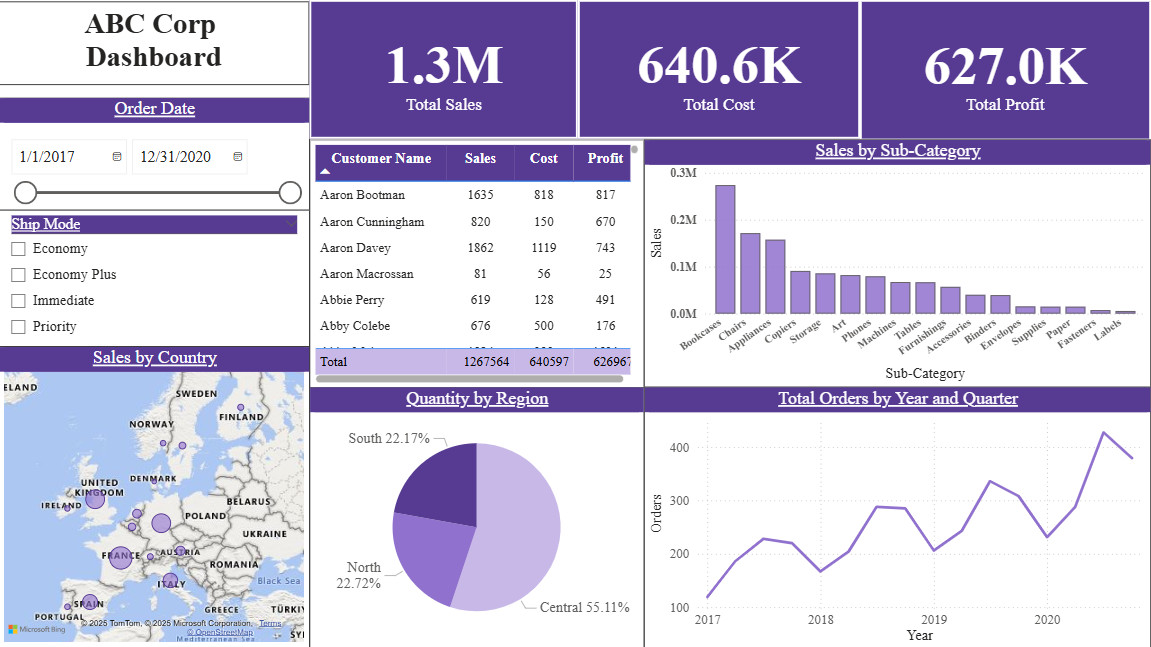

Layout of this report page (visuals, bound fields, positions):
{"tool":"powerbi","page":{"name":"Page 1","canvas":[1280,720],"ordinal":0},"visuals":[{"type":"card","fields":{"Values":["List of Orders.Profit"]},"box":[957,0,323,155.7],"z":0},{"type":"tableEx","fields":{"Values":["List of Orders.Customer Name","List of Orders.Sales","List of Orders.Cost","List of Orders.Profit"]},"box":[345,155,371.7,276.7],"z":1000},{"type":"clusteredColumnChart","title":"Sales by Sub-Category","fields":{"Category":["List of Orders.Sub-Category"],"Y":["List of Orders.Sales"]},"box":[716.7,155,563.3,275],"z":2000},{"type":"lineChart","title":"Total Orders by Year and Quarter","fields":{"Y":["List of Orders.Order ID"],"Category":["List of Orders.Order Date.Variation.Date Hierarchy.Year","List of Orders.Order Date.Variation.Date Hierarchy.Quarter"]},"box":[716.7,430,563.3,290],"z":3000},{"type":"pieChart","title":"Quantity by Region","fields":{"Y":["List of Orders.Quantity"],"Category":["List of Orders.Region"]},"box":[345,430,371.7,290],"z":4000},{"type":"map","title":"Sales by Country","fields":{"Category":["List of Orders.Country"],"Size":["List of Orders.Sales"]},"box":[0,385,345,335],"z":5000},{"type":"textbox","box":[0,1.7,344.5,92.8],"z":6000},{"type":"slicer","fields":{"Values":["List of Orders.Ship Mode"]},"box":[0,233.3,345,151.7],"z":7000},{"type":"slicer","title":"Order Date","fields":{"Values":["List of Orders.Order Date"]},"box":[0,108.3,345,125],"z":8000},{"type":"card","fields":{"Values":["List of Orders.Cost"]},"box":[643.5,0,313.1,154.1],"z":9000},{"type":"card","fields":{"Values":["List of Orders.Sales"]},"box":[344.5,0,298.2,154.1],"z":10000}]}

Visuals, with their boxes in screenshot pixels (x1, y1, x2, y2), scaled from the page's 1280x720 canvas onto the 1151x647 screenshot:
card - List of Orders.Profit: 861 0 1150 140
tableEx - List of Orders.Customer Name x List of Orders.Sales: 310 139 644 388
"Sales by Sub-Category" clusteredColumnChart: 644 139 1150 386
"Total Orders by Year and Quarter" lineChart: 644 386 1150 646
"Quantity by Region" pieChart: 310 386 644 646
"Sales by Country" map: 0 346 310 646
textbox: 0 2 310 85
slicer - List of Orders.Ship Mode: 0 210 310 346
"Order Date" slicer: 0 97 310 210
card - List of Orders.Cost: 579 0 860 138
card - List of Orders.Sales: 310 0 578 138
